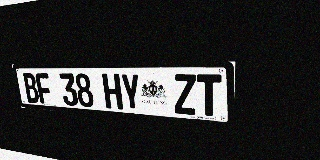3: (59, 73, 79, 106)
8: (74, 73, 94, 107)
B: (22, 73, 40, 103)
F: (35, 73, 54, 104)
H: (102, 74, 123, 110)
T: (197, 74, 221, 117)
Y: (120, 74, 142, 111)
Z: (173, 74, 197, 115)
